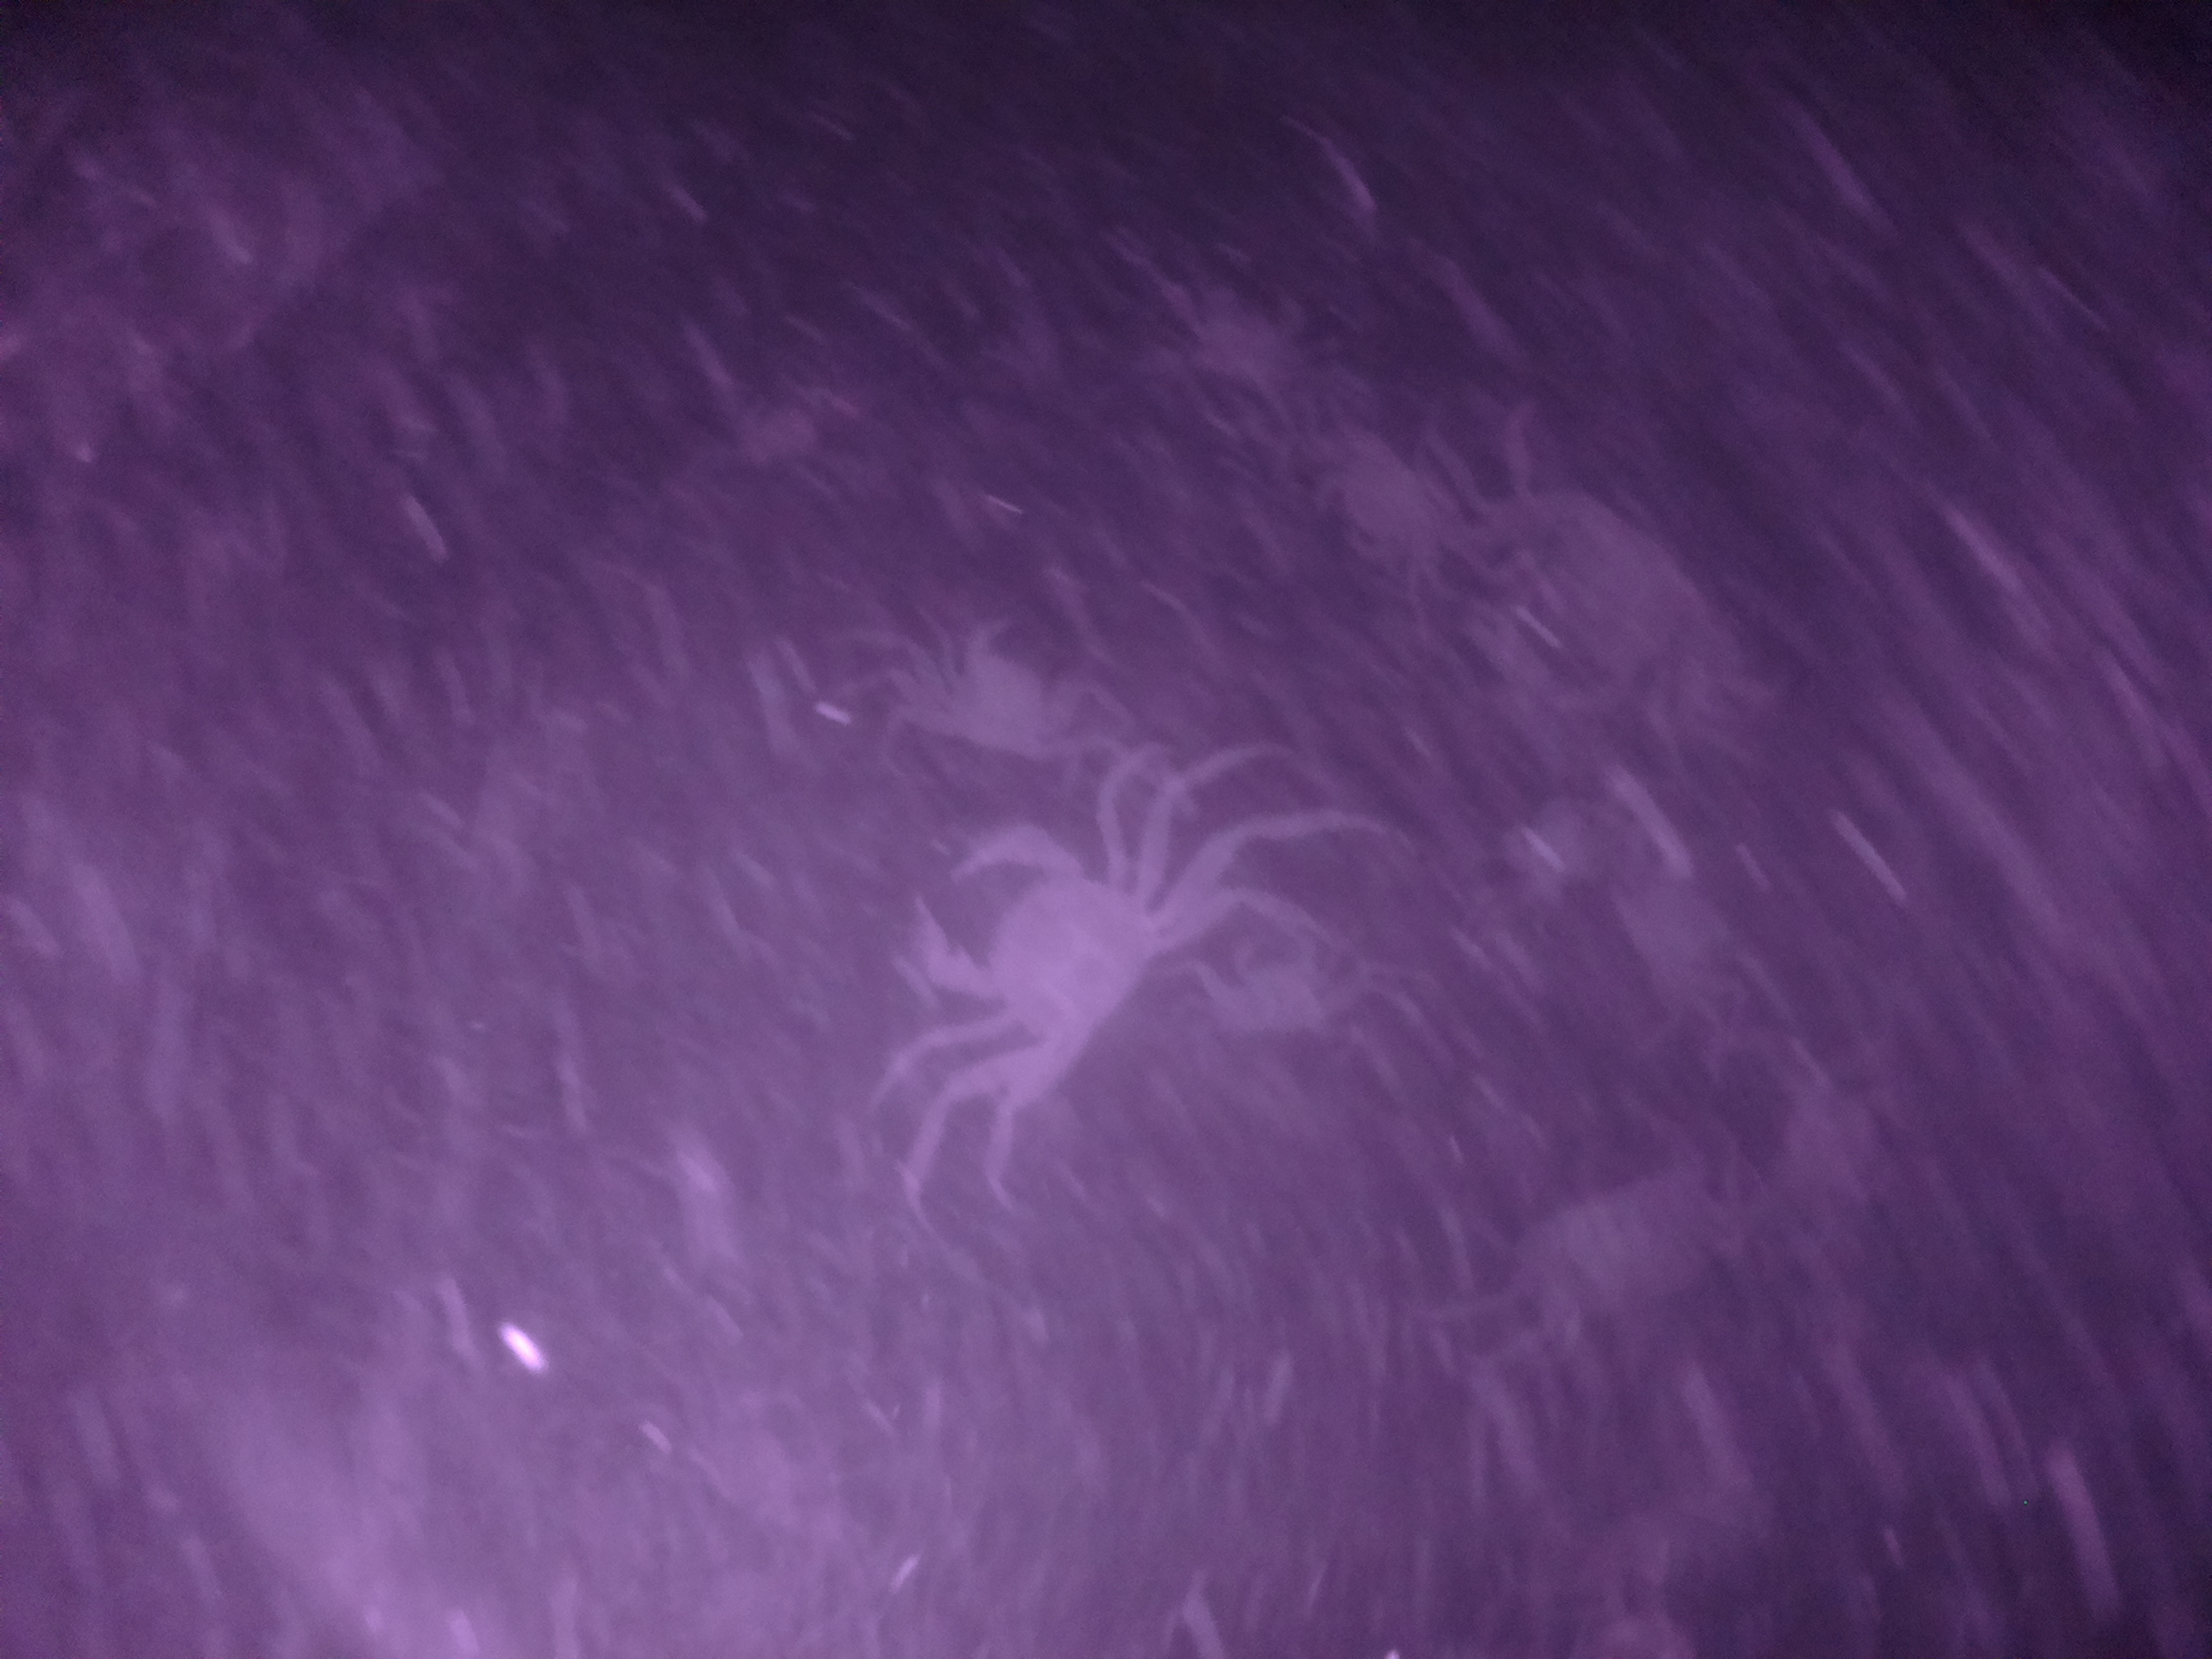Crab: (911, 821, 1181, 1084), (923, 598, 1101, 765), (1303, 418, 1465, 570)
